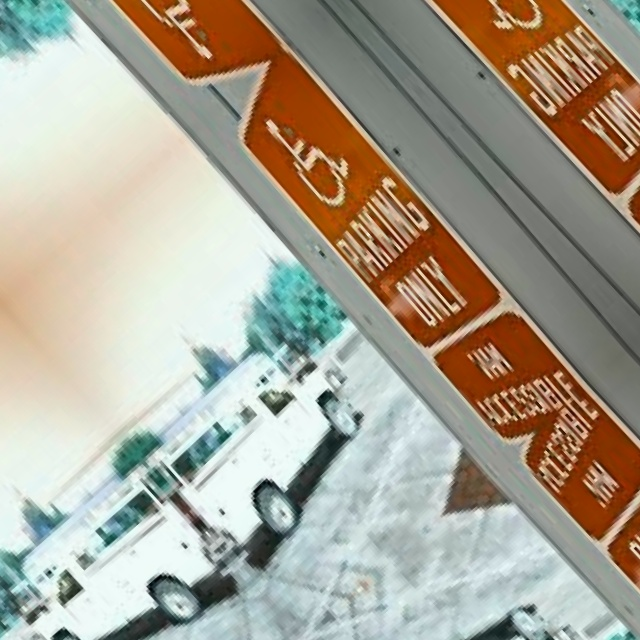ISA: (256, 99, 366, 214), (123, 0, 233, 67), (441, 0, 551, 48)
